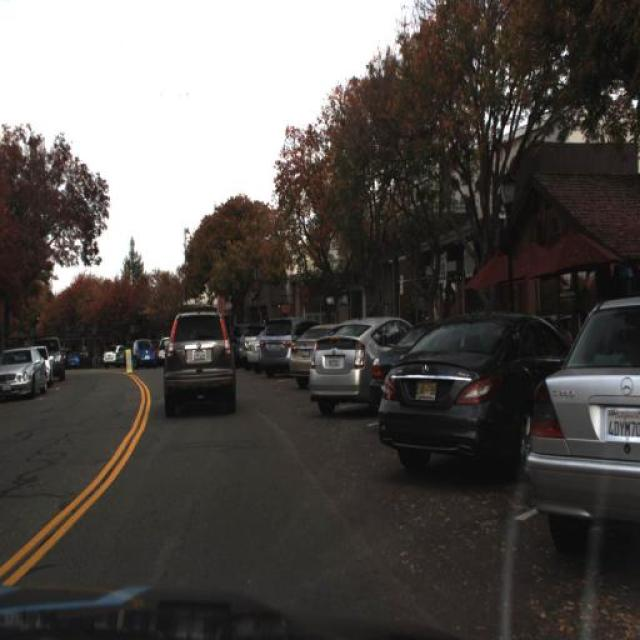car: (375, 309, 571, 482), (530, 292, 640, 554), (153, 304, 241, 427), (304, 317, 404, 412), (366, 325, 426, 409), (252, 316, 298, 376), (0, 346, 45, 400), (291, 324, 323, 388), (263, 319, 293, 369), (245, 329, 266, 373), (245, 329, 266, 366), (132, 336, 156, 366), (104, 343, 125, 366)
